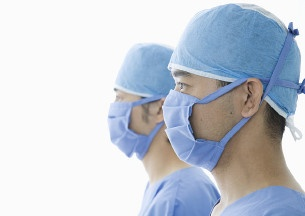Mask: (156, 66, 256, 168)
